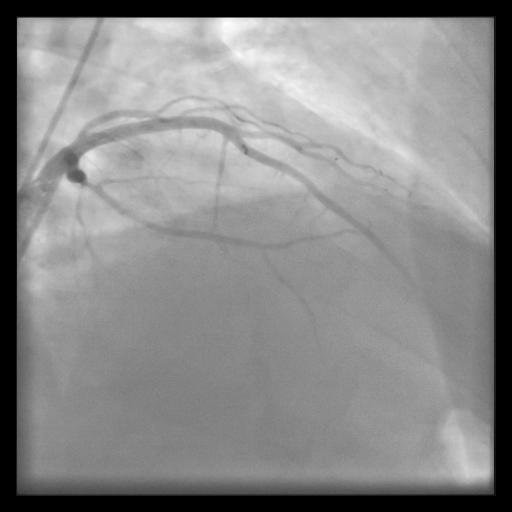Stenosis: (75, 173, 105, 197)
